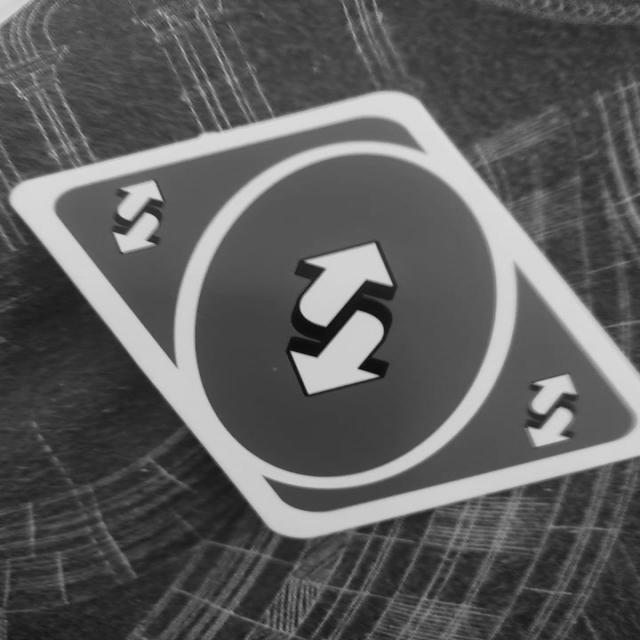reverse_card: (7, 88, 638, 540)
